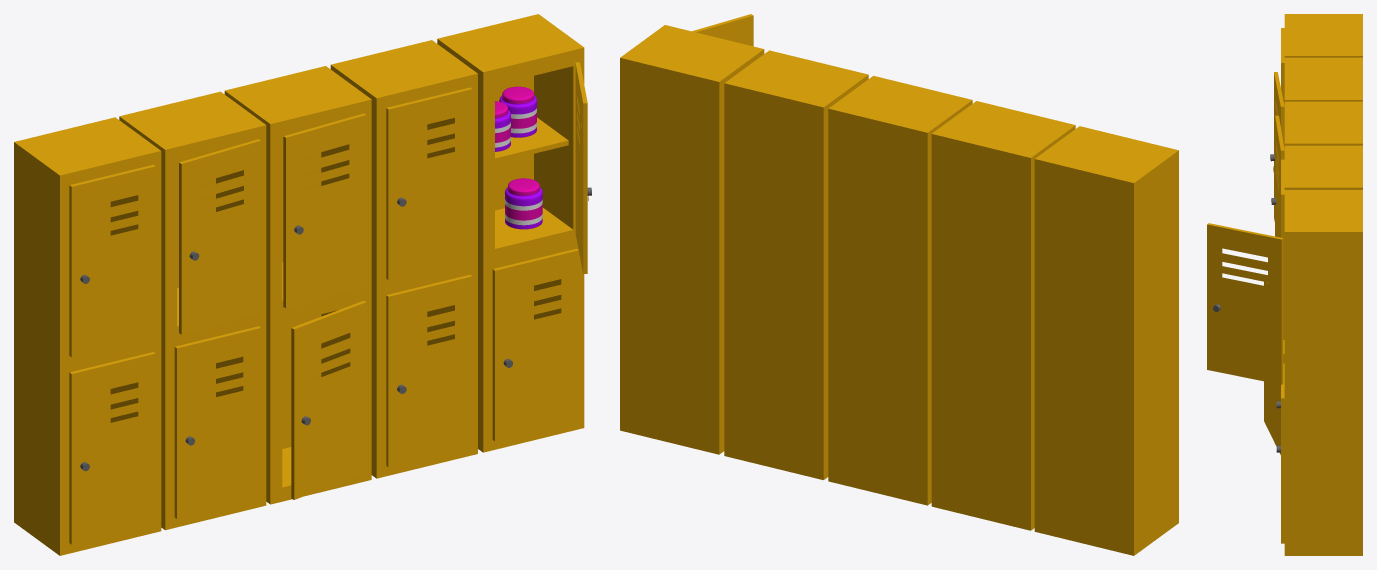
File: cabinet.fbx
The picture shows the model from 3 angles, left to right: view 1: azimuth 30°, elevation 25°; view 2: azimuth 150°, elevation 25°; view 3: azimuth 270°, elevation 25°; orthographic projection. The views are drawn at different scales.
Visible parts, largest first — view 1: Cube, Cube.013, Cube.007, Cube.010, Cube.004, Cube.006, Cube.015, Cube.003, Cube.012, Cube.002, Cube.011, Cube.008 (+7 smaller); view 2: Cube, Cube.013, Cube.010, Cube.004, Cube.007, Cube.014; view 3: Cube.013, Cube.014, Cube.004, Cube.007, Cube.010, Cube, Cube.009, Cube.008, Cube.015, Cube.005, Cube.011, Cube.003.
Part boxes in pixels (x1,y1,x2,y2): Cube: [14, 117, 161, 555]; Cube.013: [437, 14, 584, 452]; Cube.007: [224, 66, 371, 504]; Cube.010: [330, 40, 477, 478]; Cube.004: [119, 91, 266, 530]; Cube.006: [174, 326, 260, 518]; Cube.015: [492, 248, 578, 441]; Cube.003: [69, 164, 155, 357]; Cube.012: [386, 275, 472, 467]; Cube.002: [69, 352, 155, 544]; Cube.011: [386, 87, 472, 279]; Cube.008: [283, 113, 366, 308]; Cube: [1034, 126, 1178, 555]; Cube.013: [620, 25, 764, 454]; Cube.010: [724, 50, 868, 479]; Cube.004: [931, 101, 1075, 530]; Cube.007: [828, 76, 972, 505]; Cube.014: [692, 14, 753, 46]; Cube.013: [1284, 190, 1362, 555]; Cube.014: [1207, 223, 1283, 384]; Cube.004: [1284, 57, 1362, 101]; Cube.007: [1284, 101, 1362, 145]; Cube.010: [1284, 145, 1362, 189]; Cube: [1284, 14, 1362, 57]; Cube.009: [1264, 281, 1280, 454]; Cube.008: [1271, 115, 1284, 237]; Cube.015: [1276, 363, 1284, 543]; Cube.005: [1270, 72, 1284, 221]; Cube.011: [1281, 159, 1284, 339]; Cube.003: [1281, 28, 1284, 105].
Bounding box in the file's own units: 865 × 599 × 261.
